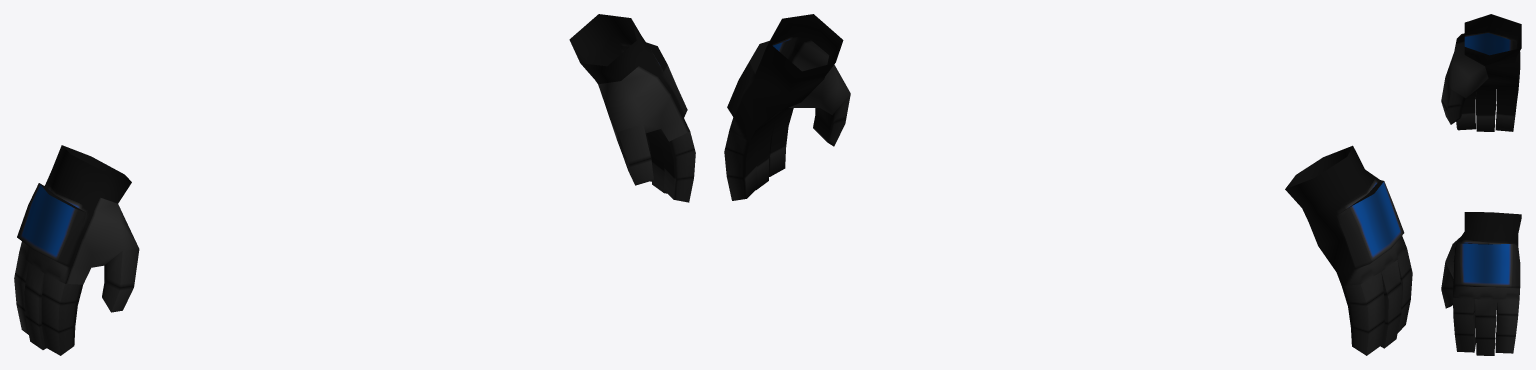
The model's file is hum_heavy_a_ade7ad4a.glb.
3 views of the same model, side by side, from view 1: azimuth 30°, elevation 25°; view 2: azimuth 150°, elevation 25°; view 3: azimuth 270°, elevation 25° (orthographic). The views are drawn at different scales.
Size of the model in its own units: 1.7 by 0.4493 by 0.2528.
Materials: 1 (1 with a texture image).
